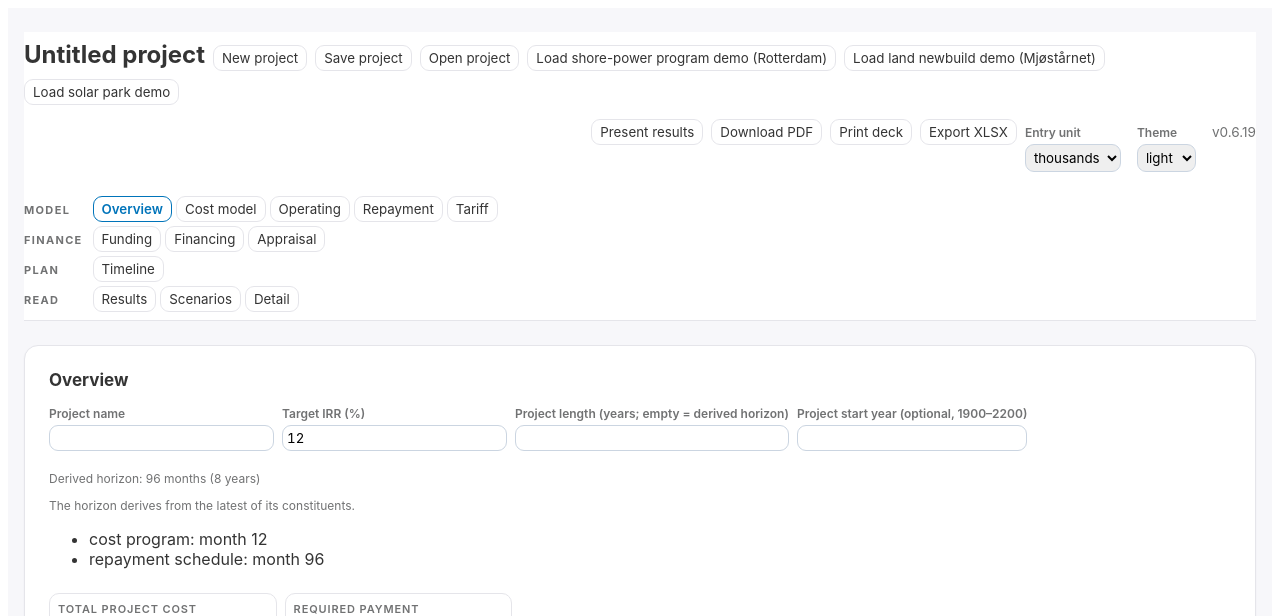
Task A: NAV-PRESERVED / CONTROLS-PRESERVED / START-YEAR-RELOCATED › START-YEAR-RELOCATED: the field renders inside the overview section; the header carries none
Type "1899" into the number field labelled "Project start year (optional, 1900–2200)". click: point(912, 438)
box: left=797, top=425, right=1027, bottom=451
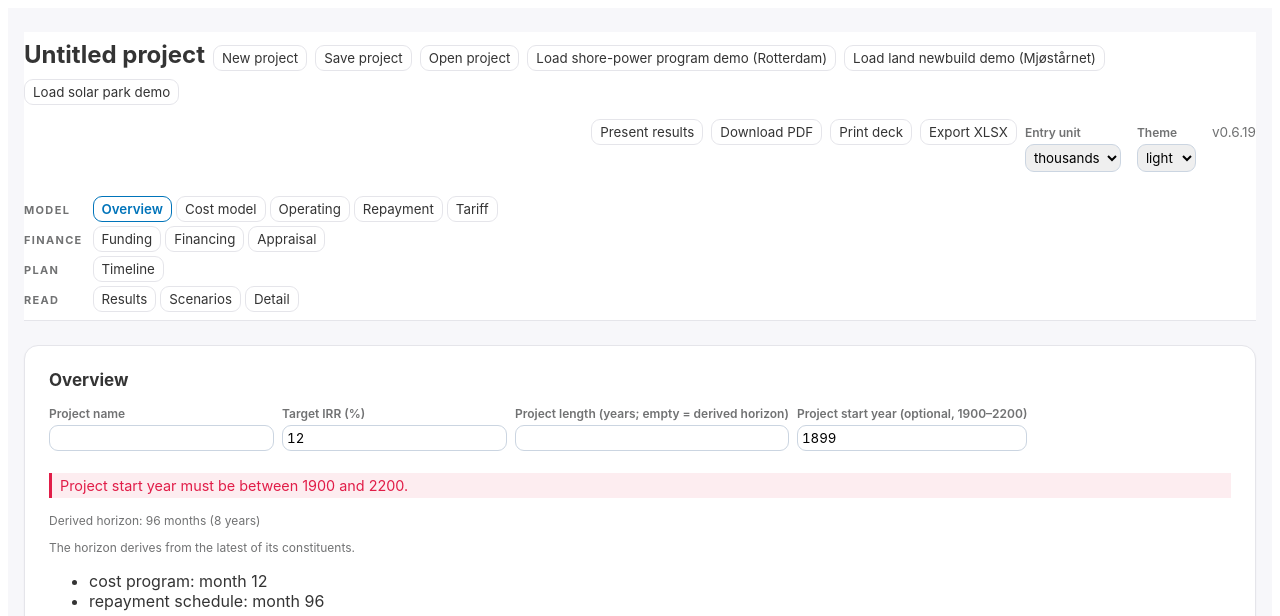
expect the text with test id "start-year-error" reads "Project start year must be between 1900 and 2200.": met, box left=60, top=477, right=408, bottom=494
Replace the text in the number field labelled "Project start year (optional, 1900–2200)" with "2024". click: point(912, 438)
box: left=797, top=425, right=1027, bottom=451
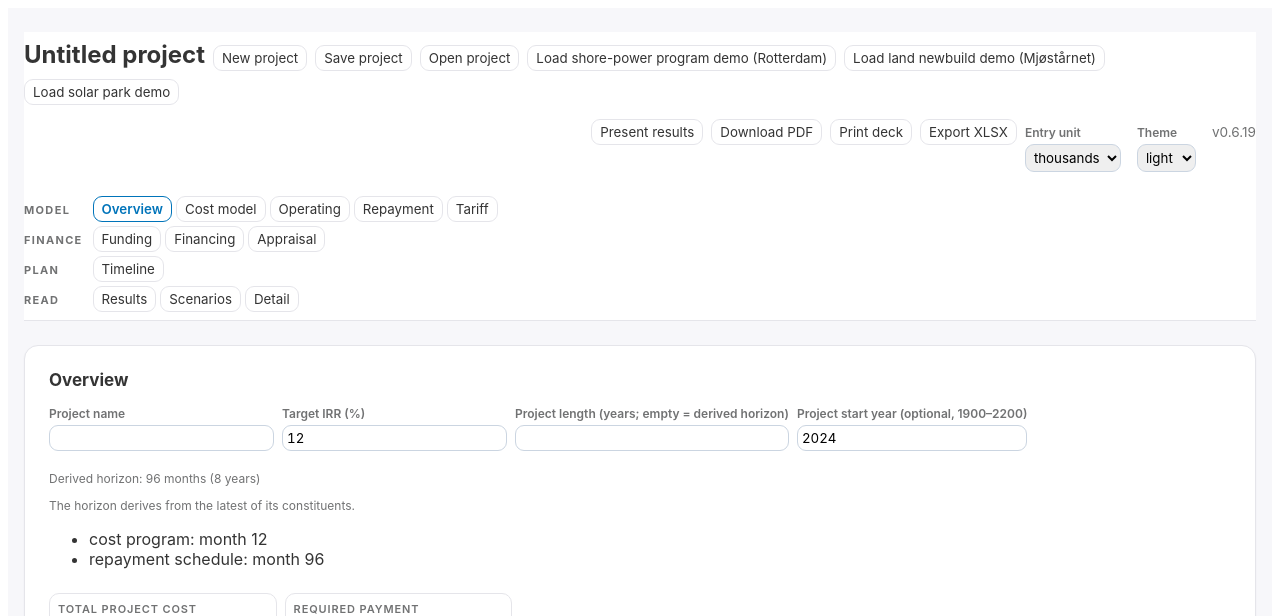
expect the text with test id "start-year-error" is gone: met
